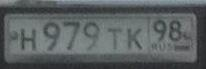license-plateSW: (8, 14, 195, 57)
